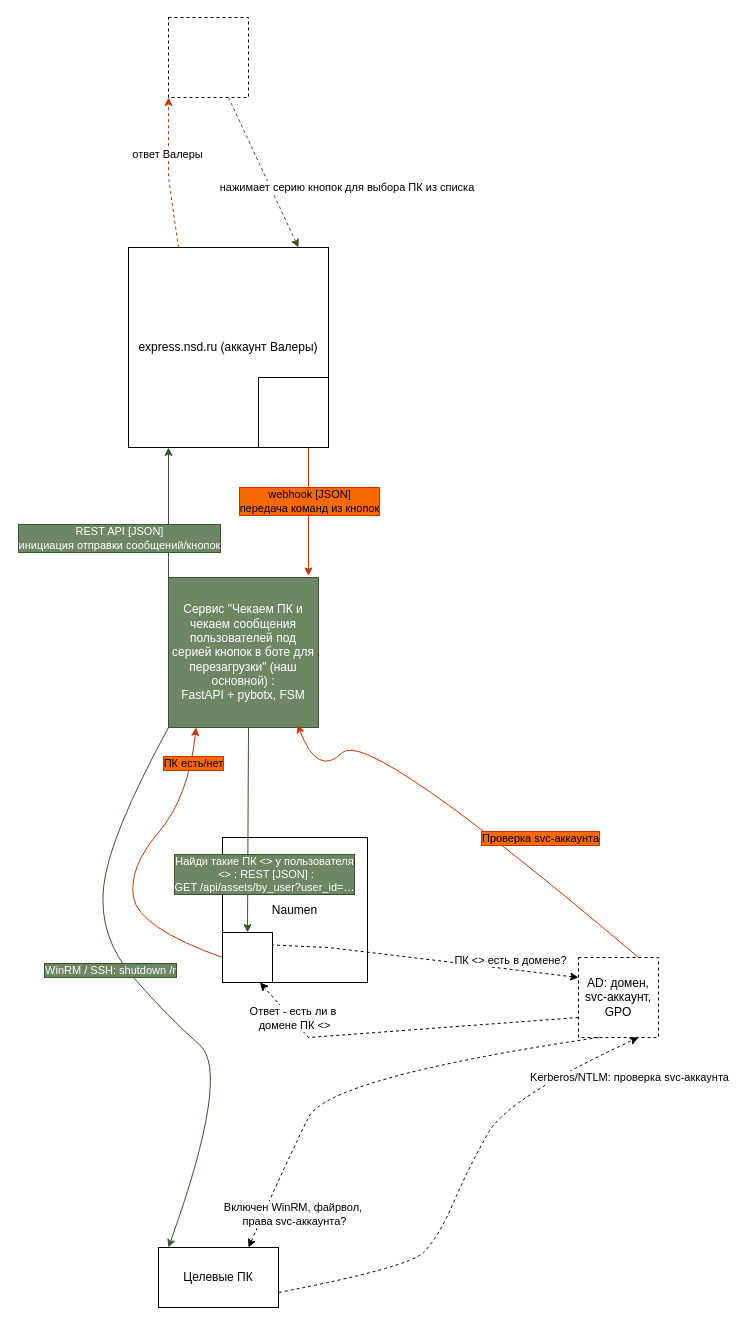
Image size: 747x1325. Some labels were removed from this diagram. Here are the shapes that lost their labels. From the top down, the centre of each, then its label:
At point (208, 57): "Пользователь".
At point (293, 412): "Чат-бот Валера".
At point (247, 957): "CMDB (БД)".
